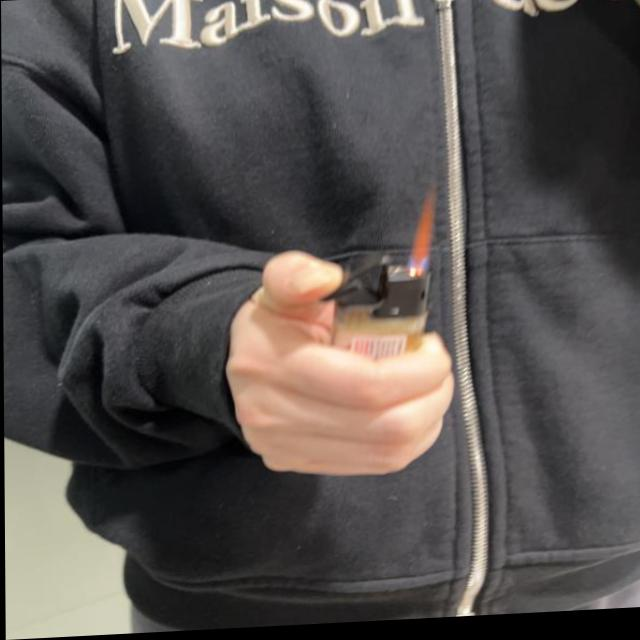Fire: (406, 192, 437, 279)
